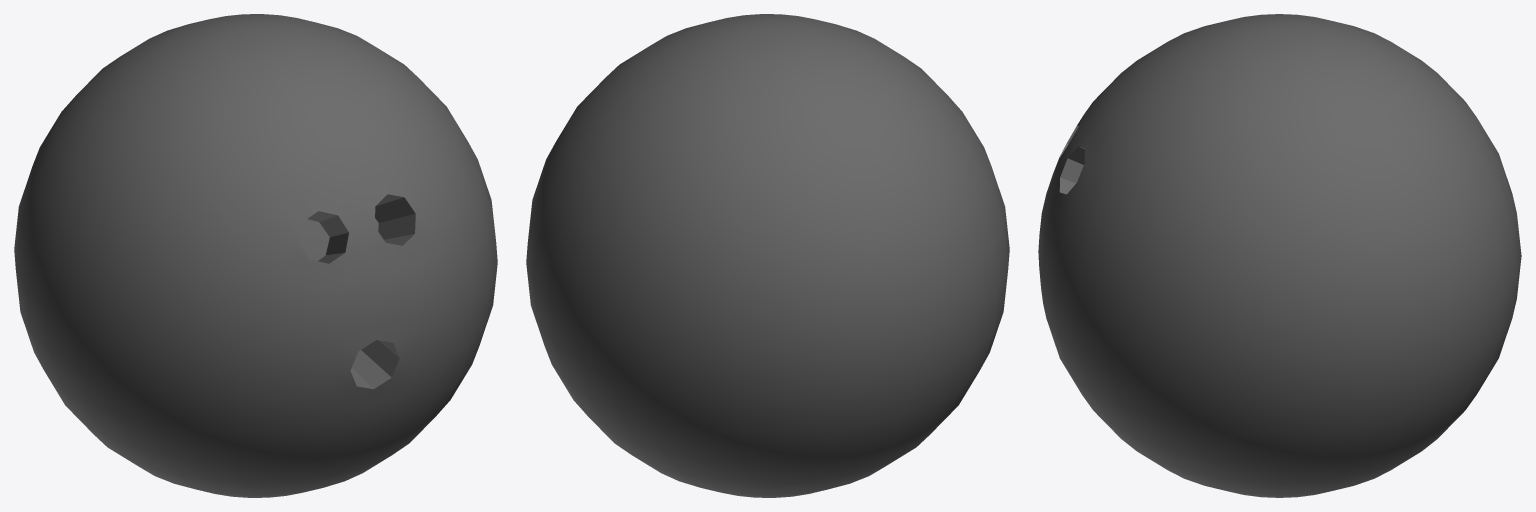
Rendered from BowlingBall.fbx.
3 views of the same model, side by side, from view 1: azimuth 30°, elevation 25°; view 2: azimuth 150°, elevation 25°; view 3: azimuth 270°, elevation 25° (orthographic).
Parts seen in each view (by area): view 1: BowlingBall; view 2: BowlingBall; view 3: BowlingBall.
Part boxes in pixels (<box>): BowlingBall: <box>14,14,497,497</box>; BowlingBall: <box>526,14,1009,497</box>; BowlingBall: <box>1038,14,1521,497</box>.
Bounding box in the file's own units: 150 × 150 × 150.
